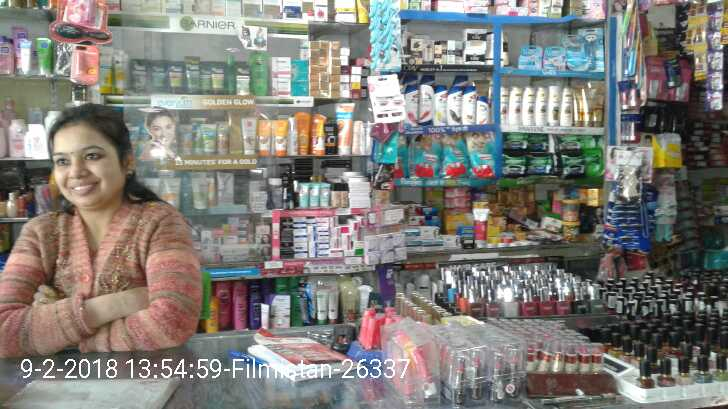venus: (368, 1, 401, 73), (581, 26, 602, 71), (563, 36, 581, 71), (519, 45, 541, 67), (541, 45, 561, 67)
